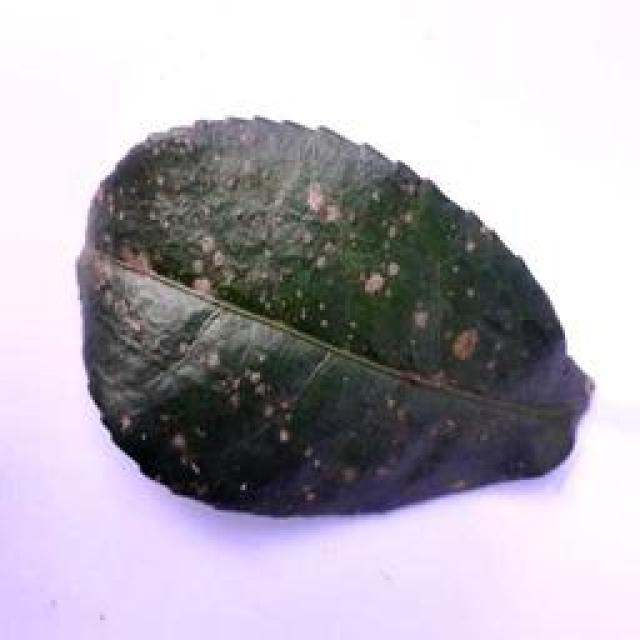Algal Leaf Spot: (68, 110, 594, 530)
